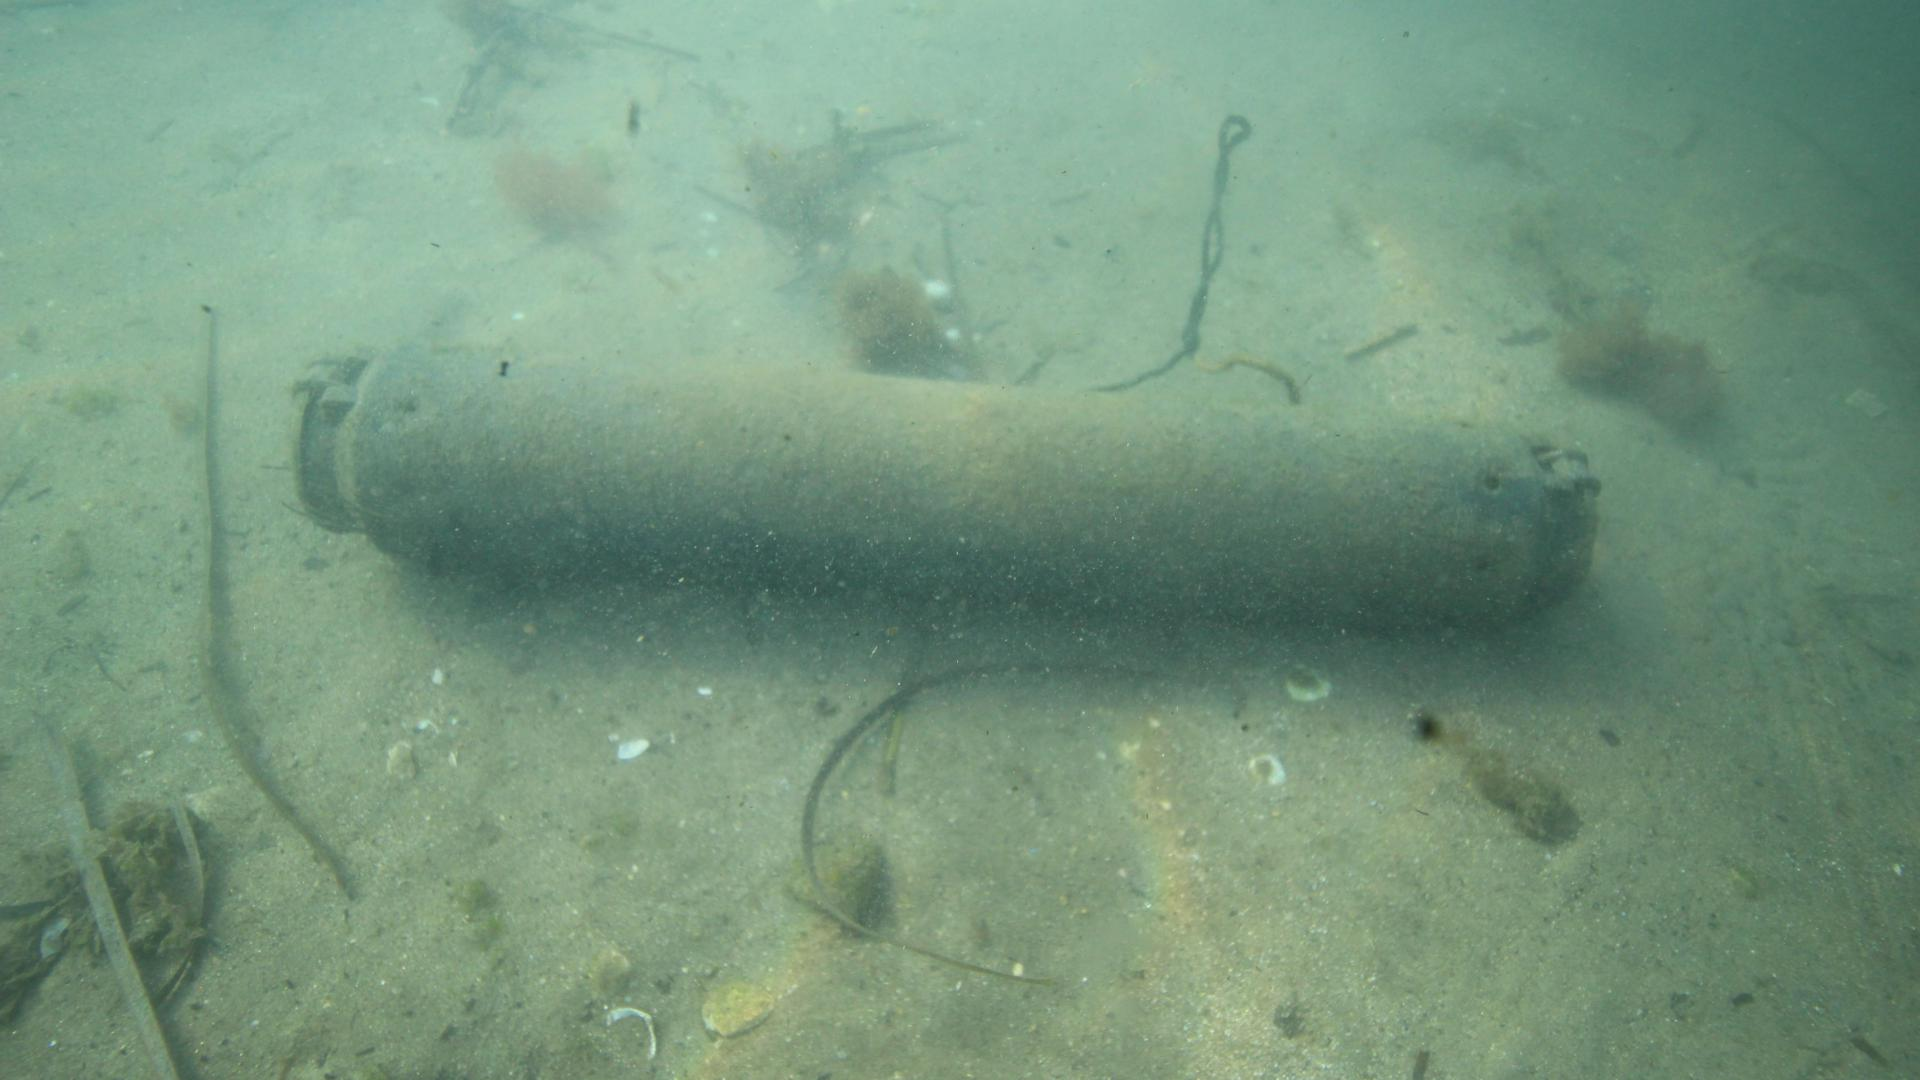bundle of ropes: (1083, 107, 1305, 407)
eel fish trap: (291, 342, 1594, 616)
